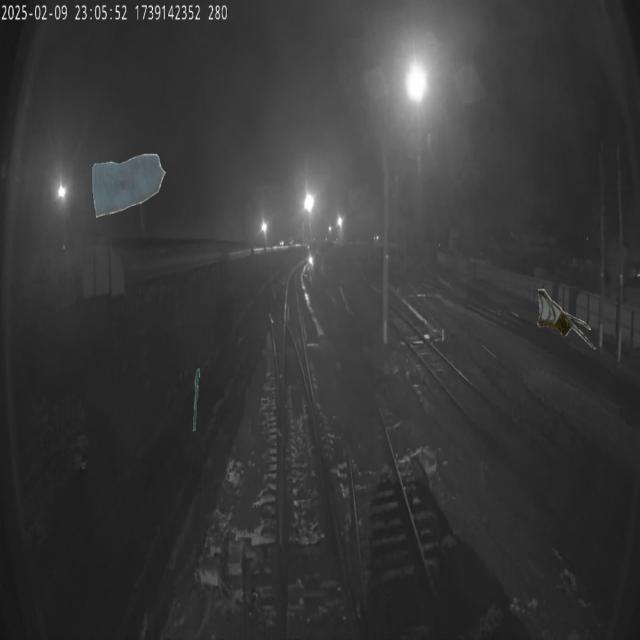floating object: (88, 148, 171, 220), (538, 289, 597, 353), (193, 367, 200, 431)
